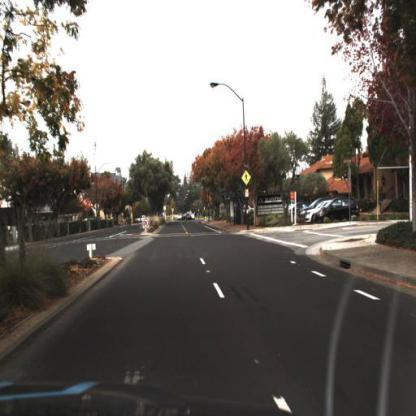car: (311, 196, 362, 225), (301, 199, 331, 225)
